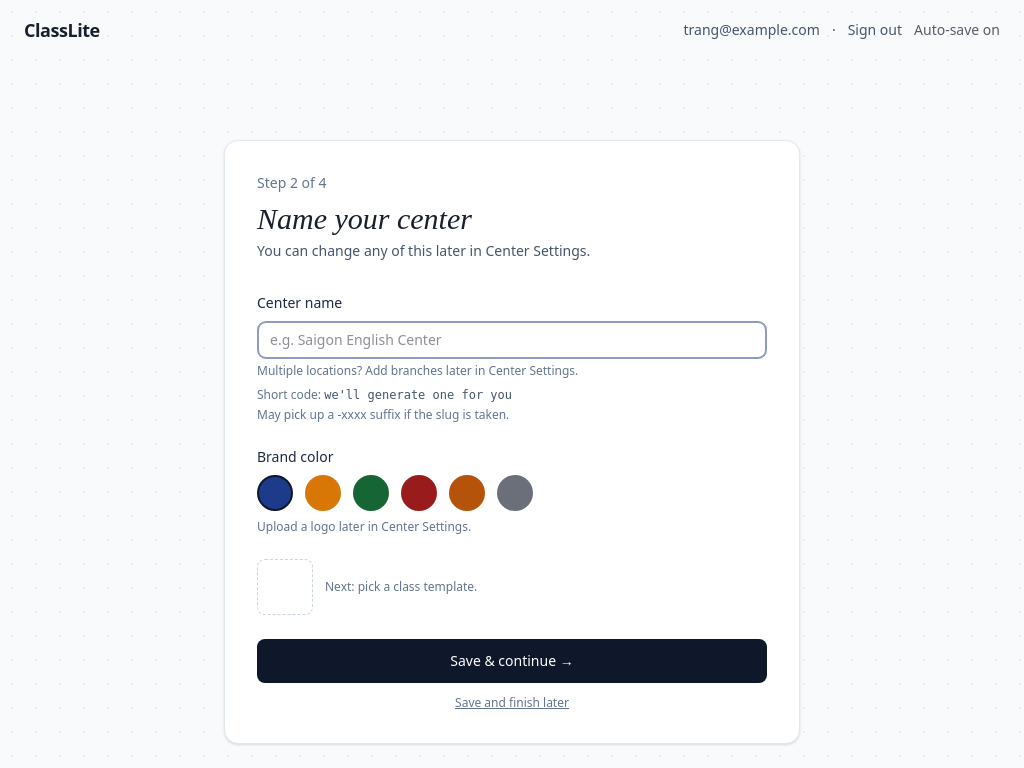
CenterSetupPage — AC7 POST /api/centers error branches › 403 EMAIL_VERIFICATION_REQUIRED renders link to /verify-email
In the field labelled "Center name": (512, 340) [257,321,767,359], type "X"
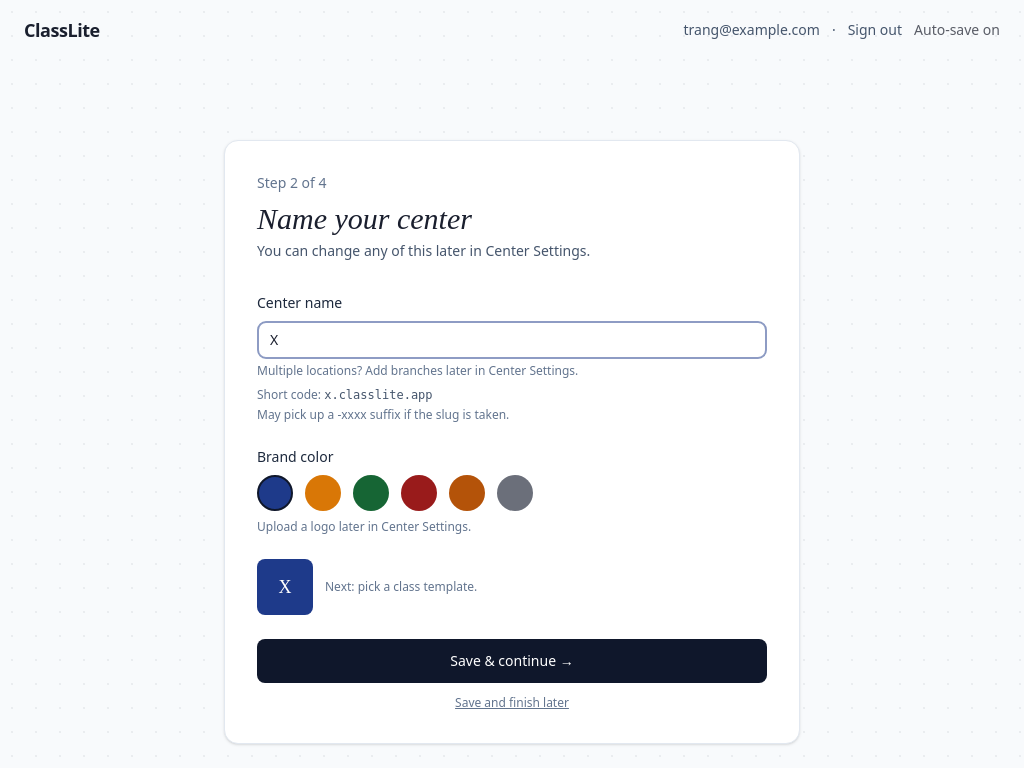
Click the button "Save & continue →": (512, 661) [257,639,767,683]
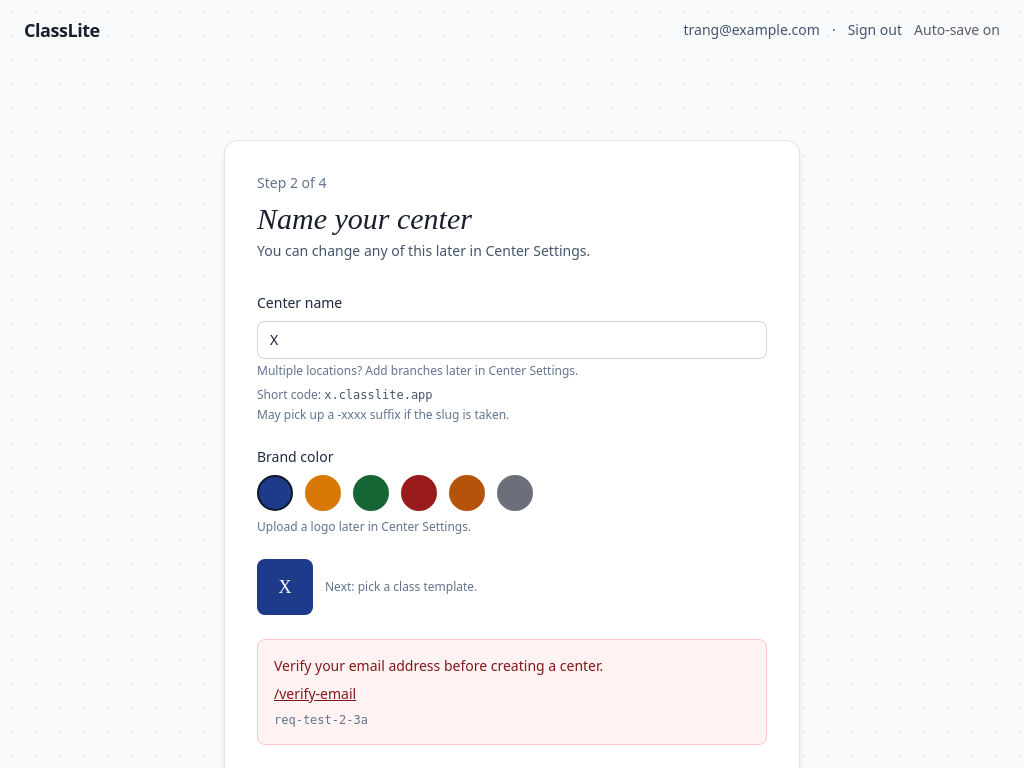
Expected: the link "/verify-email" is shown, [274,684,356,703]
